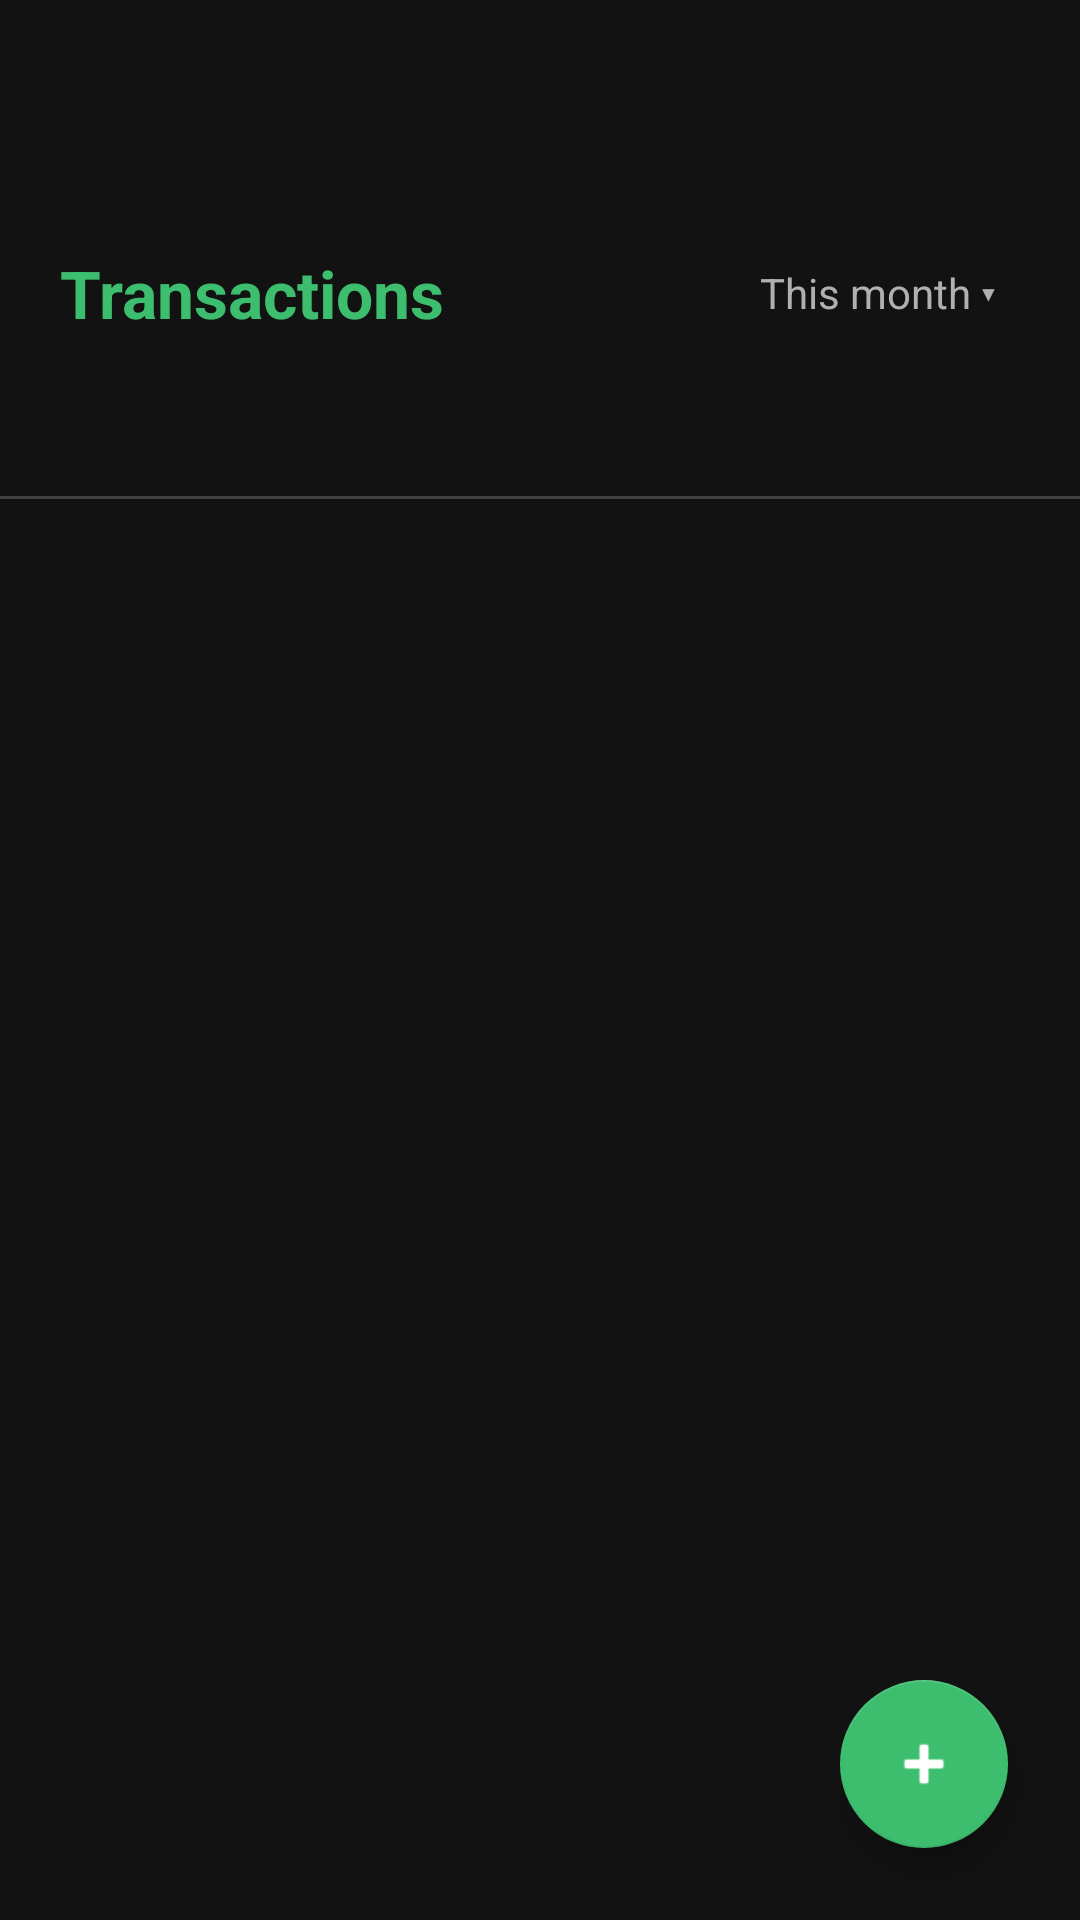

Locate icon controls on the screen. Image size 1080 x 1920, boxes as (x1=x1, y1=y1, x2=x2, y2=y2).
Add expense: (x1=840, y1=1680, x2=1008, y2=1848)
